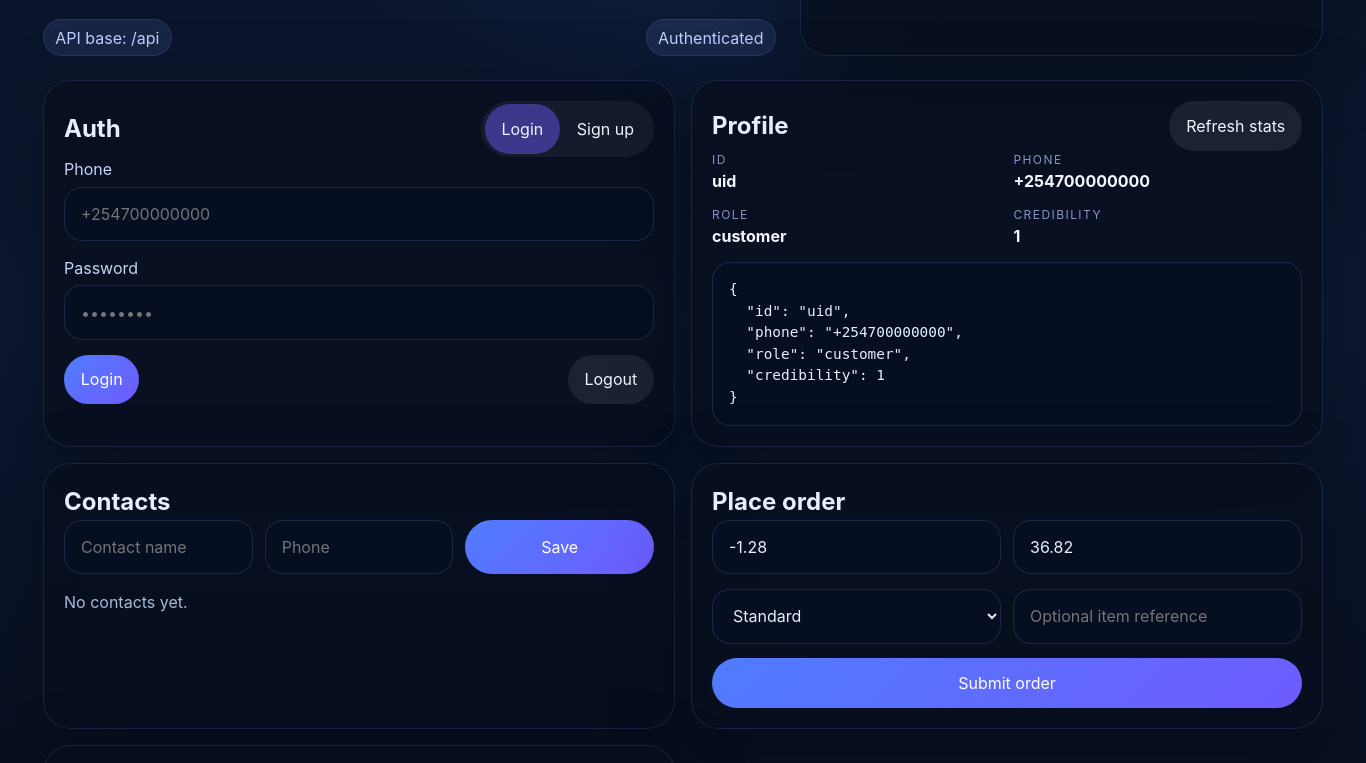
App auth and order flows › logs out and clears auth state
(page scrolled)
Click the button "Logout" at [611, 379], box [568, 355, 654, 404]
(page scrolled)
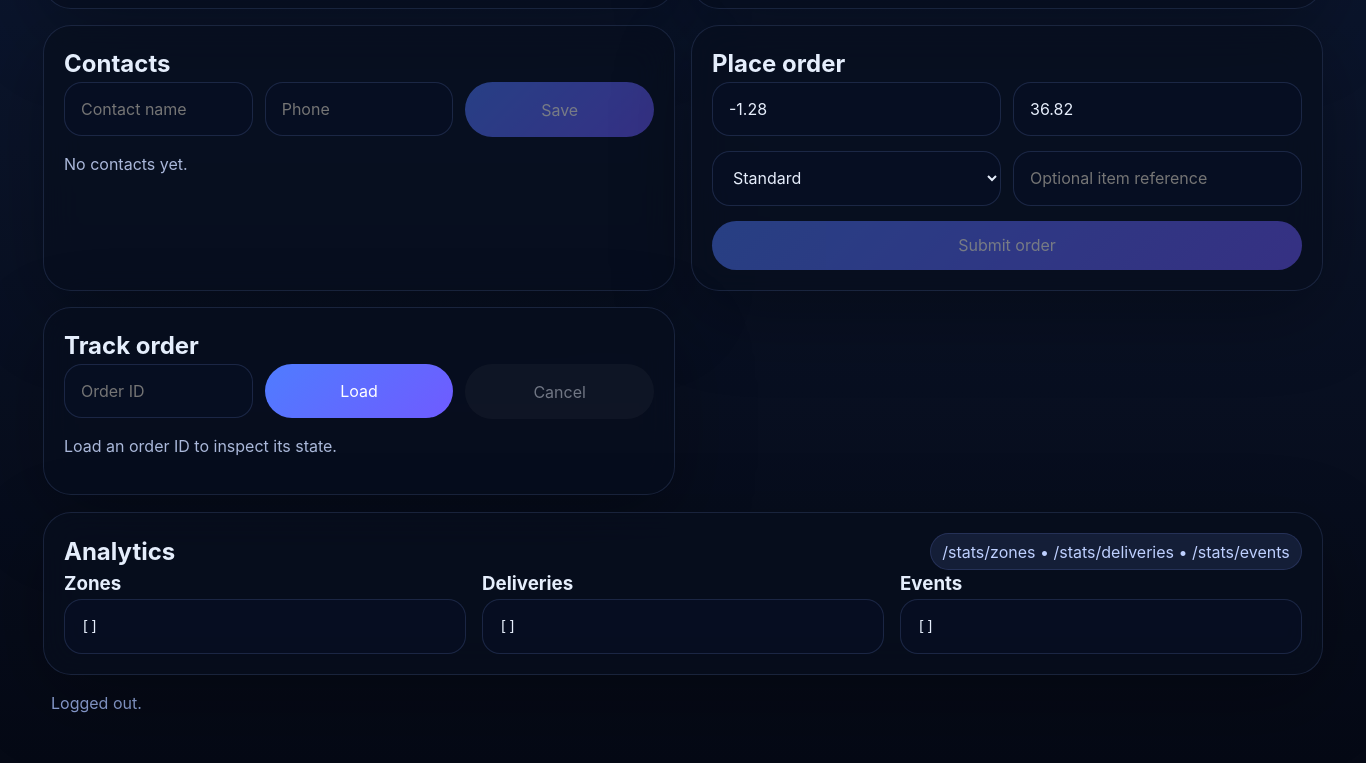
Expected: the text "Logged out." is shown, [51, 691, 142, 715]
